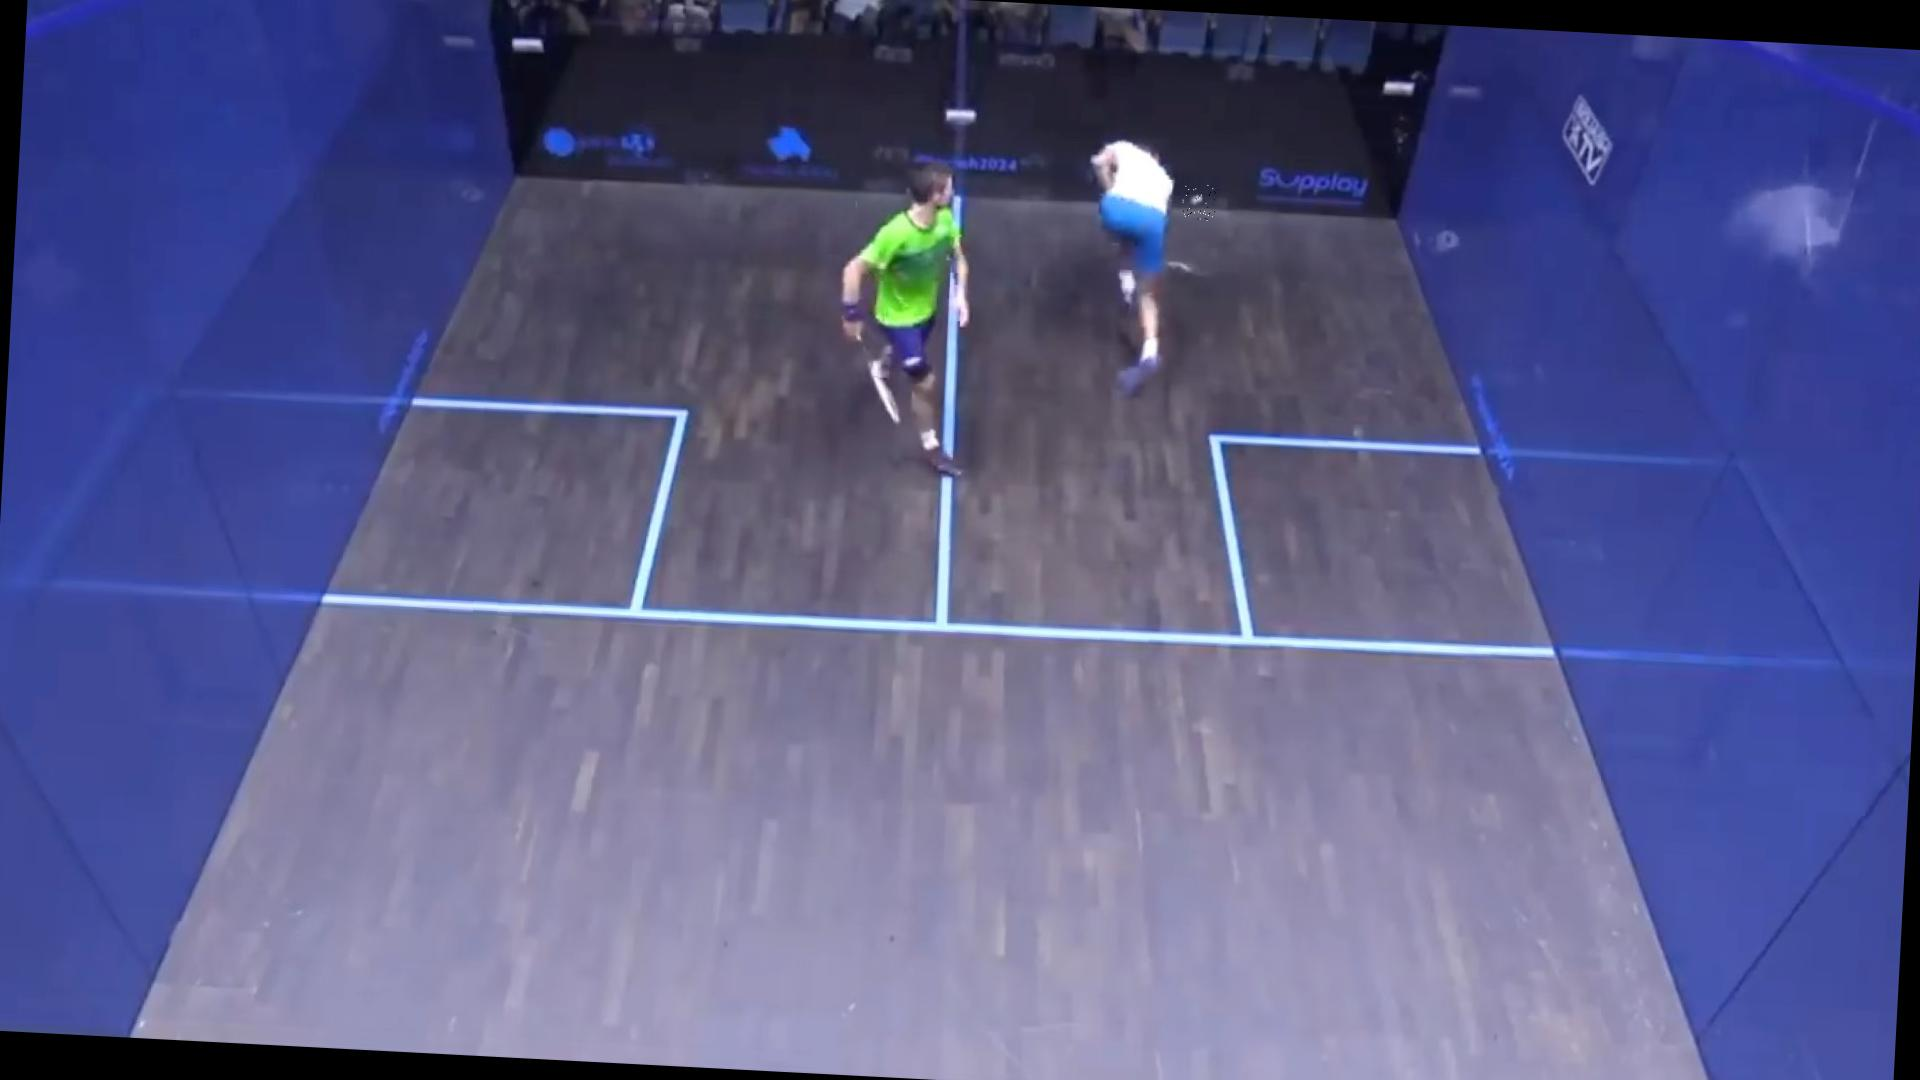Squash-Ball: (1182, 183, 1218, 222)
